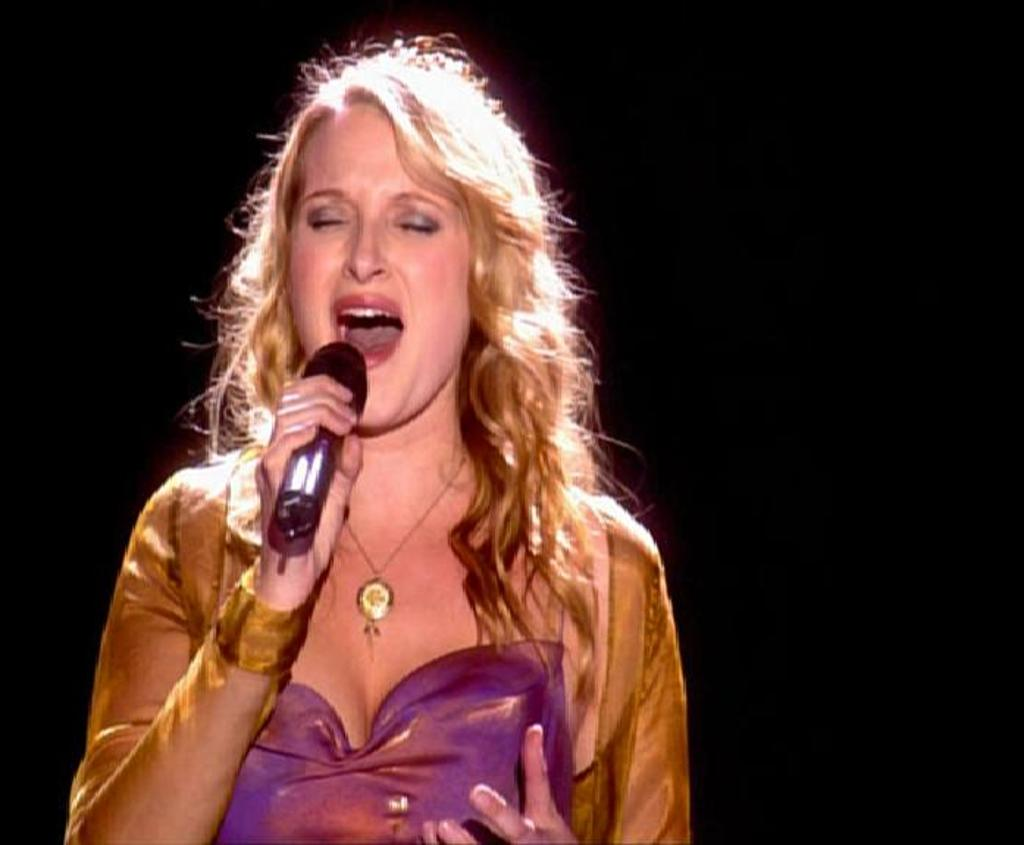face: (286, 96, 486, 424)
